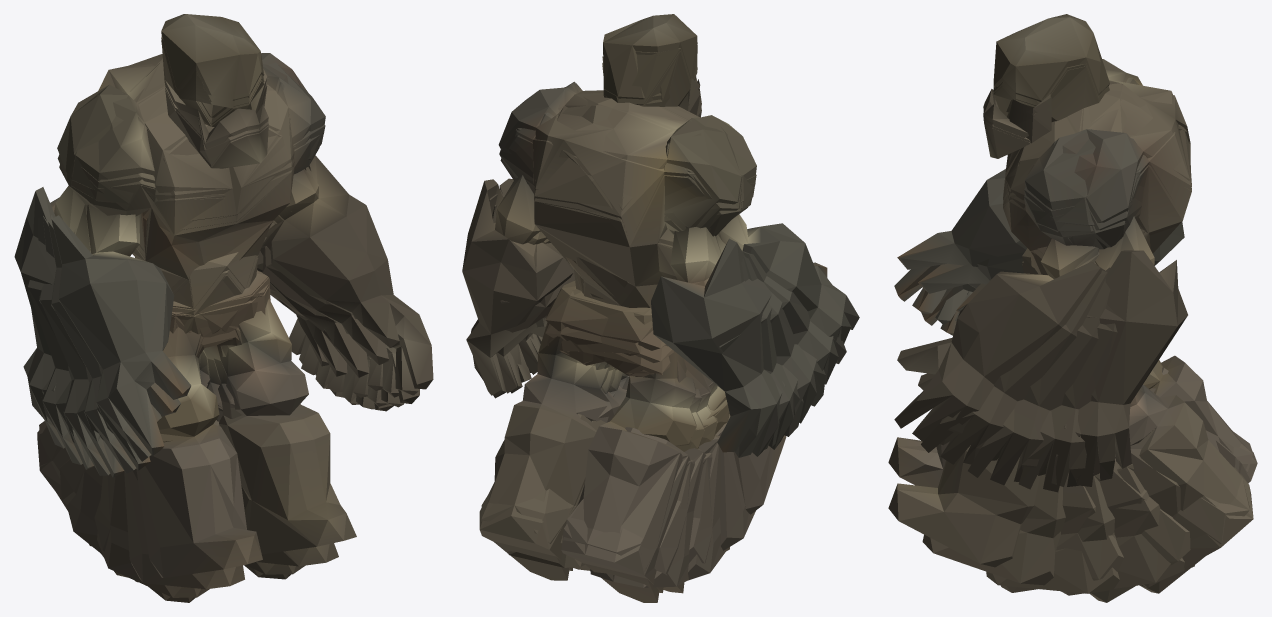
File: golem.glb
The picture shows the model from 3 angles, left to right: view 1: azimuth 30°, elevation 25°; view 2: azimuth 150°, elevation 25°; view 3: azimuth 270°, elevation 25°; orthographic projection. The views are drawn at different scales.
Visible parts, largest first — view 1: pose_6, pose_2, pose_4, pose_1, pose_0, pose_5, pose_3, pose_7; view 2: pose_2, pose_6, pose_0, pose_5, pose_7, pose_4, pose_1, pose_3; view 3: pose_6, pose_2, pose_0, pose_5, pose_3, pose_4, pose_1, pose_7.
Boxes of the visible parts, box(x1,y1,x2,y2) form: pose_6: box(37, 14, 356, 554); pose_2: box(14, 14, 433, 577); pose_4: box(40, 40, 389, 577); pose_1: box(29, 37, 419, 589); pose_0: box(39, 41, 393, 597); pose_5: box(39, 50, 347, 566); pose_3: box(27, 38, 419, 602); pose_7: box(50, 39, 347, 582); pose_2: box(479, 14, 786, 570); pose_6: box(462, 15, 859, 592); pose_0: box(492, 51, 823, 580); pose_5: box(489, 51, 846, 602); pose_7: box(489, 42, 843, 587); pose_4: box(495, 45, 825, 593); pose_1: box(481, 48, 803, 580); pose_3: box(508, 48, 797, 567); pose_6: box(888, 14, 1257, 567); pose_2: box(888, 14, 1253, 587); pose_0: box(956, 66, 1190, 602); pose_5: box(918, 67, 1253, 585); pose_3: box(918, 81, 1194, 595); pose_4: box(958, 70, 1148, 593); pose_1: box(919, 64, 1249, 593); pose_7: box(920, 85, 1190, 592).
Size of the model in its own units: 0.5944 by 1.02 by 0.6154.
